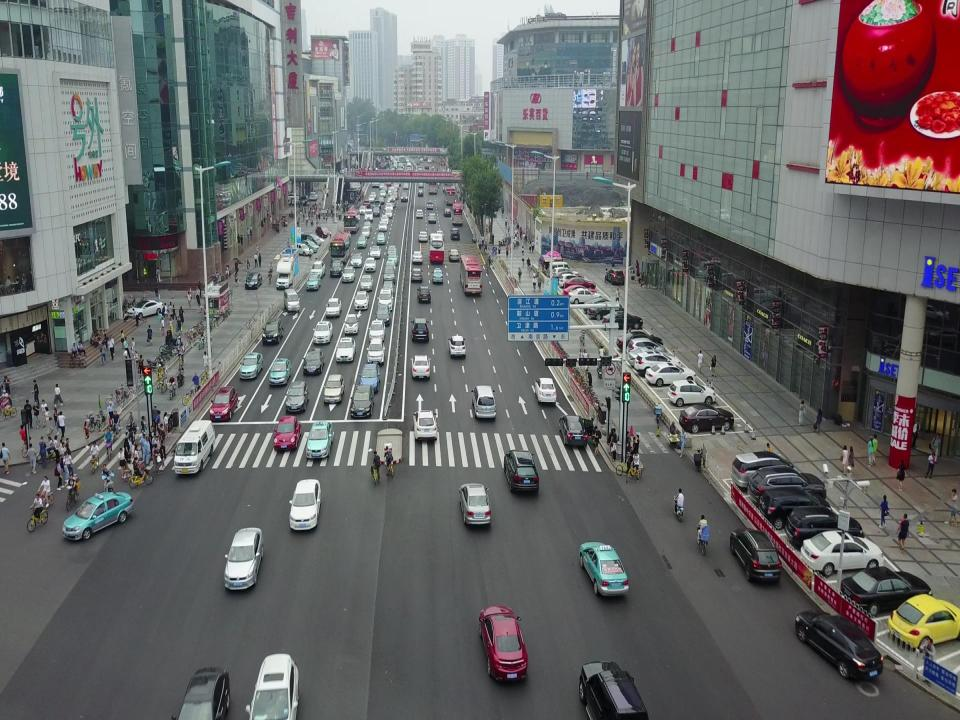bus: (460, 254, 482, 296), (329, 231, 352, 264), (428, 233, 444, 264), (344, 207, 361, 233), (450, 202, 464, 226), (444, 183, 456, 205), (428, 178, 438, 196)
car: (794, 609, 884, 684), (839, 566, 933, 618), (885, 592, 960, 652), (577, 658, 649, 720), (478, 605, 530, 686), (800, 529, 884, 578), (61, 489, 135, 541), (244, 652, 300, 720), (747, 463, 827, 510), (785, 504, 864, 550), (170, 666, 232, 720), (759, 485, 833, 529), (729, 525, 781, 586), (732, 450, 804, 494), (578, 540, 630, 598), (223, 526, 265, 591), (288, 477, 322, 531), (503, 448, 540, 496), (679, 402, 735, 433), (459, 482, 493, 528), (667, 379, 717, 406), (645, 362, 697, 387), (304, 420, 334, 460), (634, 350, 681, 375), (558, 414, 592, 448), (209, 384, 239, 420), (274, 414, 302, 451), (616, 330, 664, 350), (349, 384, 375, 418), (412, 410, 438, 444), (285, 380, 309, 414), (628, 346, 666, 366), (603, 310, 643, 329), (126, 299, 164, 319), (358, 362, 382, 393), (625, 338, 666, 356), (239, 351, 264, 380), (583, 296, 622, 314), (587, 302, 625, 320), (322, 374, 344, 405), (269, 357, 292, 386), (334, 335, 357, 364), (262, 317, 284, 346), (534, 376, 556, 405), (303, 348, 325, 376), (366, 337, 386, 366), (568, 287, 602, 304), (410, 354, 431, 381), (312, 320, 333, 346), (410, 316, 430, 343), (562, 284, 598, 299), (564, 277, 596, 291), (448, 335, 466, 359), (558, 272, 588, 286), (553, 270, 583, 284), (368, 319, 386, 342), (343, 313, 359, 337), (378, 287, 394, 311), (375, 303, 391, 326), (325, 297, 342, 318), (244, 271, 262, 290), (606, 268, 624, 286), (353, 290, 370, 309), (552, 266, 578, 278), (305, 274, 322, 292), (310, 260, 326, 279), (340, 265, 356, 284), (416, 285, 432, 304), (291, 243, 314, 256), (299, 239, 321, 252), (330, 258, 344, 277), (381, 280, 395, 298), (360, 274, 374, 291), (382, 266, 396, 282), (410, 267, 424, 283), (432, 266, 444, 284), (315, 225, 331, 238), (350, 252, 362, 268), (364, 256, 376, 272), (369, 245, 381, 259), (387, 250, 398, 265), (356, 235, 368, 248), (448, 248, 460, 261), (385, 260, 396, 274), (412, 251, 423, 264), (376, 231, 386, 245), (450, 227, 460, 241), (360, 226, 370, 239), (418, 230, 428, 243), (387, 245, 397, 257), (362, 219, 372, 230), (378, 221, 388, 232), (435, 230, 445, 241), (384, 207, 393, 218), (400, 191, 408, 203), (380, 215, 389, 225), (363, 198, 371, 208), (384, 203, 394, 211), (373, 199, 381, 209), (428, 213, 436, 223), (373, 206, 380, 217), (426, 200, 434, 209), (443, 207, 451, 216), (359, 205, 366, 214), (377, 196, 384, 205), (416, 209, 423, 218), (389, 199, 396, 207), (378, 190, 386, 197), (391, 192, 399, 199), (387, 195, 395, 202), (417, 188, 424, 196), (370, 191, 376, 199), (368, 195, 374, 202)
truck: (274, 249, 300, 290)
van: (172, 419, 216, 476), (470, 383, 496, 421), (282, 288, 300, 314), (547, 262, 573, 280), (298, 233, 322, 249), (540, 254, 553, 273)
